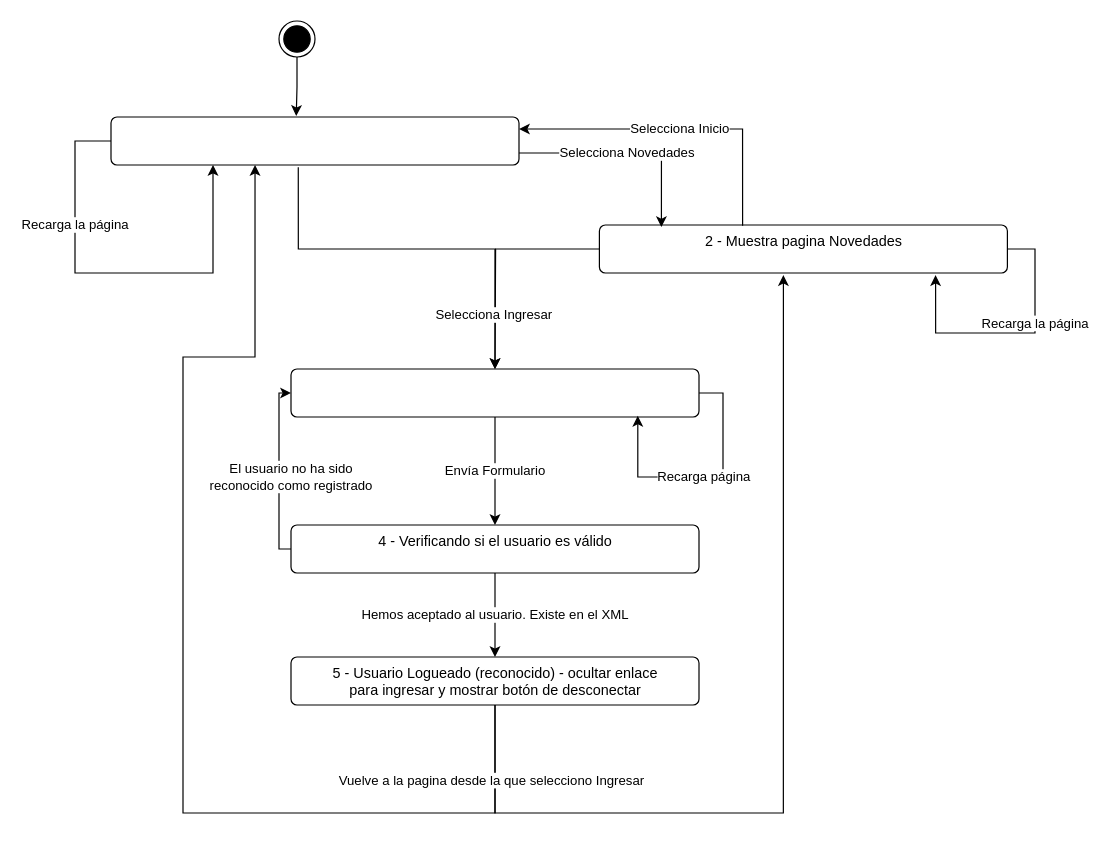
This 1109x844 diagram has some shape labels left out. Here are the shapes that lost their labels. From the top down, the centre of each, then its label:
At point 314,140: "1 - Muestra pagina Inicio".
At point 494,392: "3 - Usuario No Logueado (mostrar formulario de acceso)".
